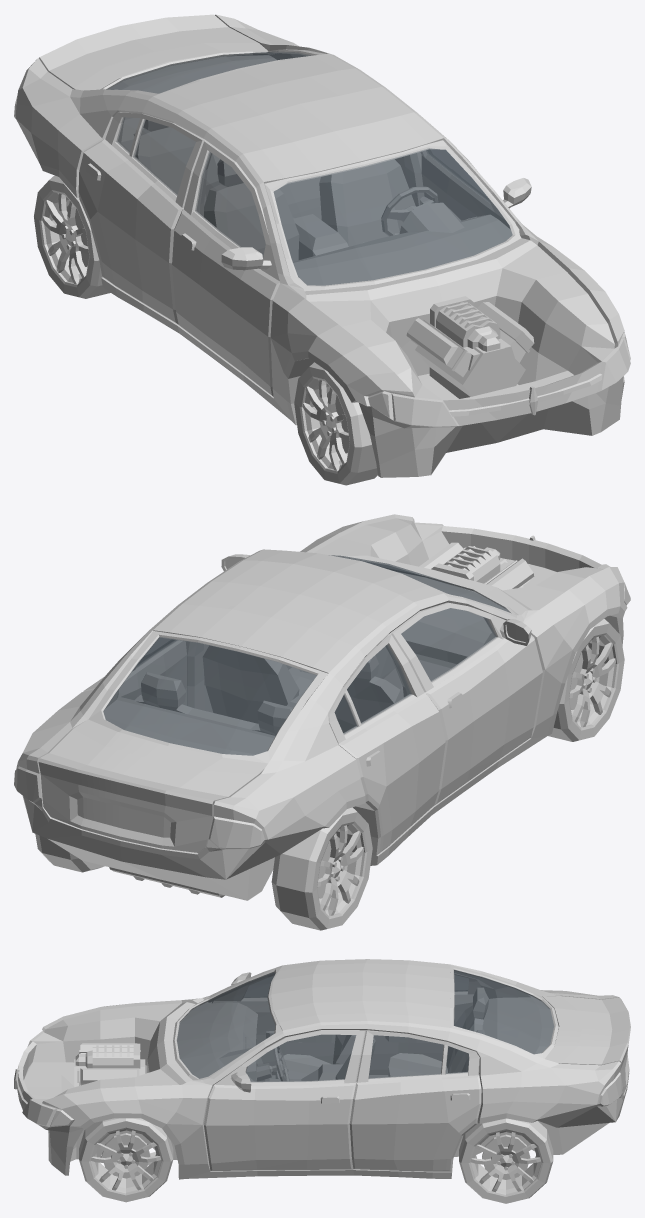
Rendered from Sedan_01_Base.glb.
3 renders of one model, top to bottom at view 1: azimuth 30°, elevation 25°; view 2: azimuth 150°, elevation 25°; view 3: azimuth 270°, elevation 25°, orthographic. The views are drawn at different scales.
Visible parts, largest first — view 1: SM_Veh_Sedan_01, SM_Veh_Sedan_01_Glass, SM_Veh_Sedan_01_Door_RR, SM_Veh_Sedan_01_Door_RF, SM_Veh_Sedan_01_Boot, SM_Veh_Sedan_01_Wheel_fr, SM_Veh_Sedan_01_Wheel_rr, SM_Veh_Sedan_01_Door_RF_Glass, SM_Veh_Sedan_01_Door_LF, SM_Veh_Sedan_01_SteeringW, SM_Veh_Sedan_01_Door_LF_Glass; view 2: SM_Veh_Sedan_01, SM_Veh_Sedan_01_Boot, SM_Veh_Sedan_01_Glass, SM_Veh_Sedan_01_Door_RR, SM_Veh_Sedan_01_Door_RF, SM_Veh_Sedan_01_Wheel_rr, SM_Veh_Sedan_01_Wheel_fr, SM_Veh_Sedan_01_Door_RF_Glass, SM_Veh_Sedan_01_Door_LR, SM_Veh_Sedan_01_Wheel_rl; view 3: SM_Veh_Sedan_01, SM_Veh_Sedan_01_Door_LR, SM_Veh_Sedan_01_Door_LF, SM_Veh_Sedan_01_Glass, SM_Veh_Sedan_01_Wheel_rl, SM_Veh_Sedan_01_Wheel_fl, SM_Veh_Sedan_01_Boot, SM_Veh_Sedan_01_Door_LF_Glass, SM_Veh_Sedan_01_Door_RF, SM_Veh_Sedan_01_Door_RR, SM_Veh_Sedan_01_Door_RF_Glass, SM_Veh_Sedan_01_SteeringW.
Boxes of the visible parts, box(x1,y1,x2,y2) form: SM_Veh_Sedan_01: box(14, 14, 630, 477); SM_Veh_Sedan_01_Glass: box(107, 51, 512, 285); SM_Veh_Sedan_01_Door_RR: box(78, 112, 205, 324); SM_Veh_Sedan_01_Door_RF: box(172, 140, 279, 396); SM_Veh_Sedan_01_Boot: box(39, 14, 268, 90); SM_Veh_Sedan_01_Wheel_fr: box(294, 362, 377, 485); SM_Veh_Sedan_01_Wheel_rr: box(34, 175, 110, 298); SM_Veh_Sedan_01_Door_RF_Glass: box(195, 151, 265, 257); SM_Veh_Sedan_01_Door_LF: box(420, 150, 531, 228); SM_Veh_Sedan_01_SteeringW: box(381, 187, 437, 235); SM_Veh_Sedan_01_Door_LF_Glass: box(427, 149, 488, 200); SM_Veh_Sedan_01: box(14, 514, 630, 900); SM_Veh_Sedan_01_Boot: box(38, 719, 267, 852); SM_Veh_Sedan_01_Glass: box(103, 555, 510, 755); SM_Veh_Sedan_01_Door_RR: box(328, 633, 445, 855); SM_Veh_Sedan_01_Door_RF: box(390, 602, 542, 806); SM_Veh_Sedan_01_Wheel_rr: box(271, 807, 372, 930); SM_Veh_Sedan_01_Wheel_fr: box(548, 619, 624, 741); SM_Veh_Sedan_01_Door_RF_Glass: box(401, 608, 496, 681); SM_Veh_Sedan_01_Door_LR: box(83, 638, 186, 705); SM_Veh_Sedan_01_Wheel_rl: box(35, 834, 104, 872); SM_Veh_Sedan_01: box(14, 959, 629, 1179); SM_Veh_Sedan_01_Door_LR: box(349, 1030, 481, 1171); SM_Veh_Sedan_01_Door_LF: box(204, 1030, 365, 1170); SM_Veh_Sedan_01_Glass: box(177, 969, 553, 1078); SM_Veh_Sedan_01_Wheel_rl: box(459, 1118, 553, 1203); SM_Veh_Sedan_01_Wheel_fl: box(79, 1118, 173, 1202); SM_Veh_Sedan_01_Boot: box(542, 996, 630, 1094); SM_Veh_Sedan_01_Door_LF_Glass: box(246, 1034, 356, 1081); SM_Veh_Sedan_01_Door_RF: box(212, 972, 335, 1074); SM_Veh_Sedan_01_Door_RR: box(369, 974, 479, 1074); SM_Veh_Sedan_01_Door_RF_Glass: box(244, 976, 273, 997); SM_Veh_Sedan_01_SteeringW: box(269, 1046, 288, 1080).
Bounding box in the file's own units: 2.3 × 1.64 × 5.38.
